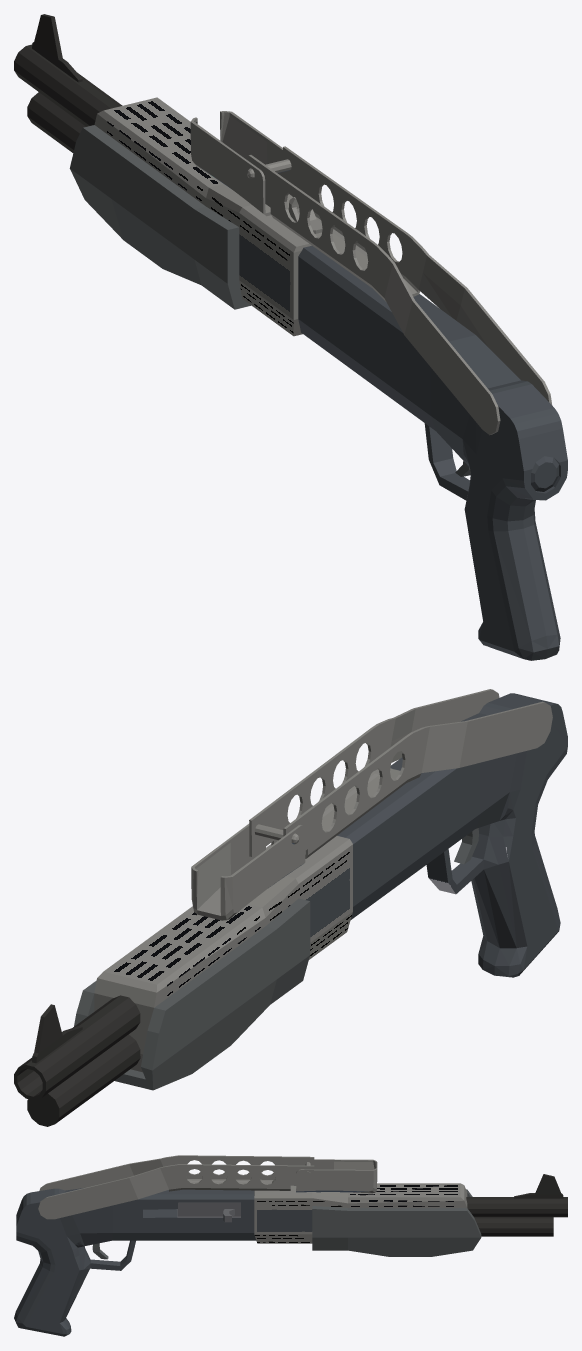
The model's file is AutoS-12.gltf.
3 renders of one model, top to bottom at view 1: azimuth 30°, elevation 25°; view 2: azimuth 150°, elevation 25°; view 3: azimuth 270°, elevation 25°, orthographic. The views are drawn at different scales.
Parts seen in each view (by area): view 1: FrontSight, Stock, pump; view 2: FrontSight, Stock, pump; view 3: FrontSight, Stock, pump, Bolt.
Boxes of the visible parts, x1,y1,x2,y2 form: FrontSight: [14, 14, 567, 660]; Stock: [190, 111, 551, 435]; pump: [69, 125, 250, 309]; FrontSight: [14, 693, 567, 1126]; Stock: [191, 689, 552, 920]; pump: [74, 898, 310, 1090]; FrontSight: [14, 1174, 567, 1336]; Stock: [38, 1155, 377, 1219]; pump: [312, 1189, 481, 1256]; Bolt: [177, 1202, 240, 1222].
Size of the model in its own units: 0.1219 by 0.4217 by 1.22.
1 material, 1 textured.
